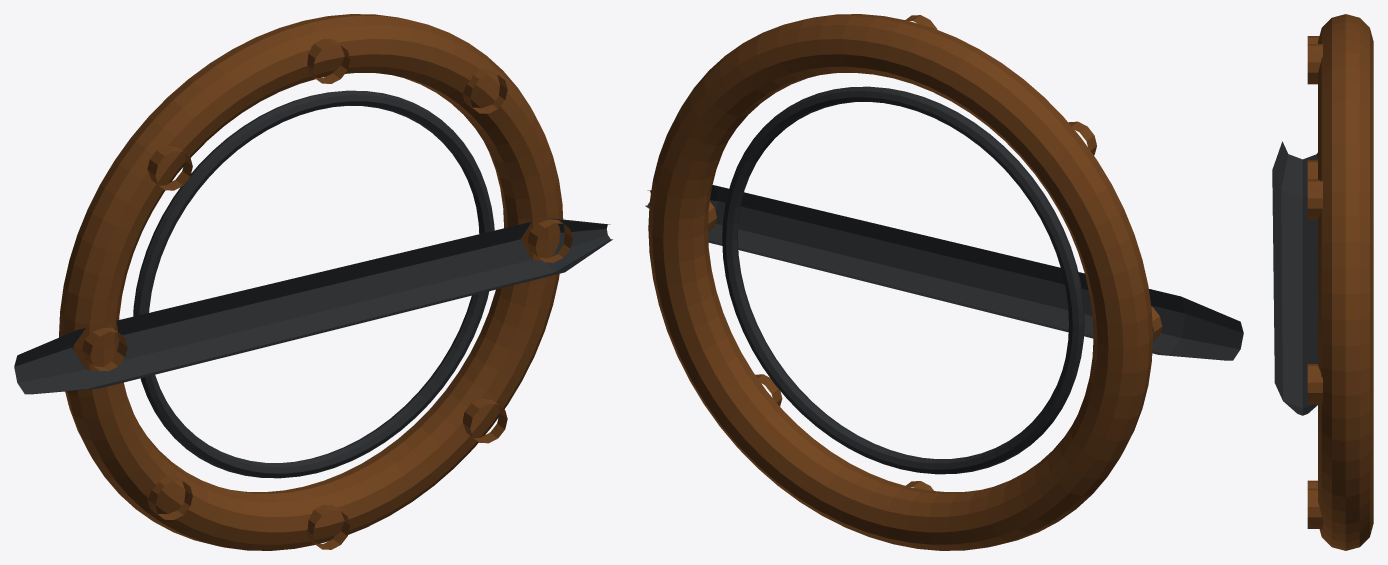
File: clasp_LOD0.obj
3 views of the same model, side by side, from view 1: azimuth 30°, elevation 25°; view 2: azimuth 150°, elevation 25°; view 3: azimuth 270°, elevation 25° (orthographic). The views are drawn at different scales.
Visible parts, largest first — view 1: RatiborCloakClasp; view 2: RatiborCloakClasp; view 3: RatiborCloakClasp.
Boxes of the visible parts, x1,y1,x2,y2 form: RatiborCloakClasp: (14,14,612,550); RatiborCloakClasp: (645,14,1243,550); RatiborCloakClasp: (1272,14,1373,550).
Size of the model in its own units: 0.25 by 0.212 by 0.04.
